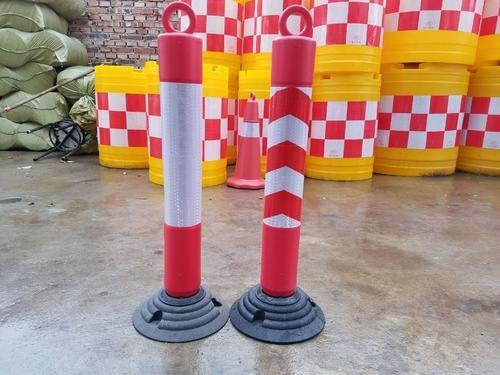cone_barrel: (377, 62, 467, 177), (306, 70, 377, 180), (382, 0, 482, 63), (92, 63, 146, 168), (305, 0, 381, 68), (174, 0, 241, 62), (461, 62, 497, 172), (198, 66, 225, 185)
